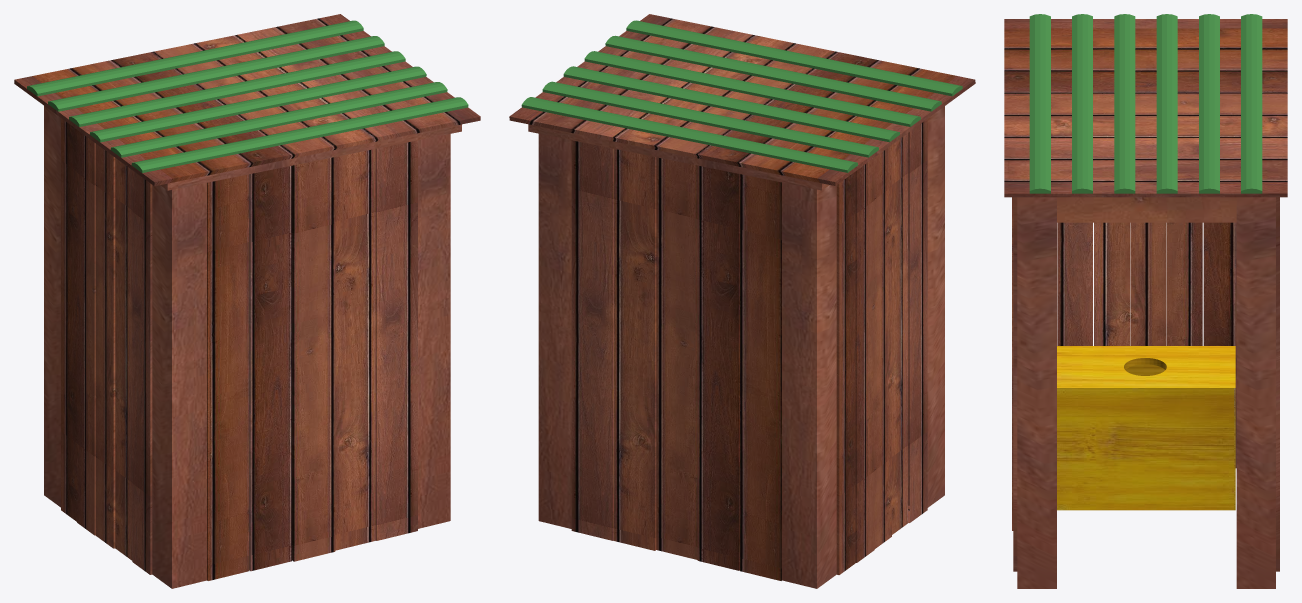
Rendered from Banheiro.fbx.
3 renders of one model, left to right at view 1: azimuth 30°, elevation 25°; view 2: azimuth 150°, elevation 25°; view 3: azimuth 270°, elevation 25°, orthographic.
Parts seen in each view (by area): view 1: Banheiro; view 2: Banheiro; view 3: Banheiro.
Part boxes in pixels (x1=…): Banheiro: x1=14, y1=14, x2=480, y2=588; Banheiro: x1=509, y1=14, x2=975, y2=588; Banheiro: x1=1004, y1=14, x2=1287, y2=588.
Bounding box in the file's own units: 266 × 328 × 198.
